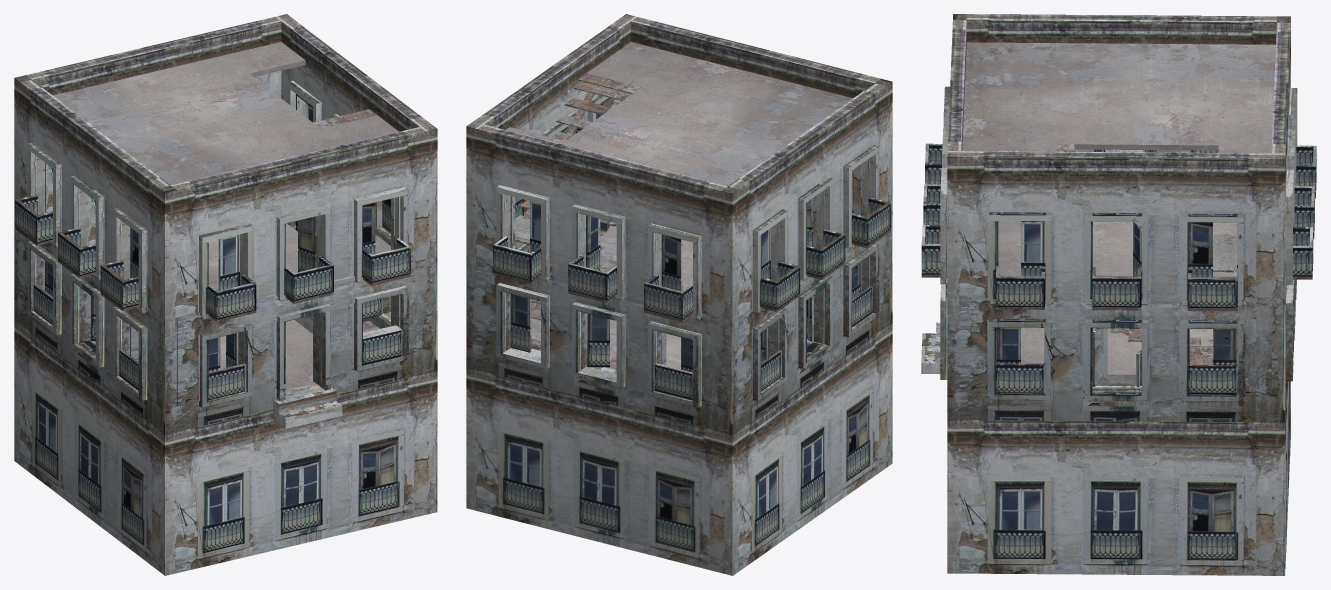
File: BagBuilding22High.fbx
3 renders of one model, left to right at view 1: azimuth 30°, elevation 25°; view 2: azimuth 150°, elevation 25°; view 3: azimuth 270°, elevation 25°, orthographic. The views are drawn at different scales.
Parts seen in each view (by area): view 1: mainA300, floorsA300, stairsA300; view 2: mainA300, floorsA300, stairsA300; view 3: mainA300, floorsA300, stairsA300.
Part boxes in pixels (x1,y1,x2,y2): mainA300: (14, 14, 437, 575); floorsA300: (53, 42, 398, 390); stairsA300: (313, 109, 377, 330); mainA300: (466, 14, 892, 575); floorsA300: (506, 42, 852, 369); stairsA300: (515, 73, 641, 369); mainA300: (921, 14, 1316, 575); floorsA300: (962, 42, 1275, 383); stairsA300: (1056, 144, 1236, 364).
Size of the model in its own units: 19.65 by 22.81 by 19.63.
